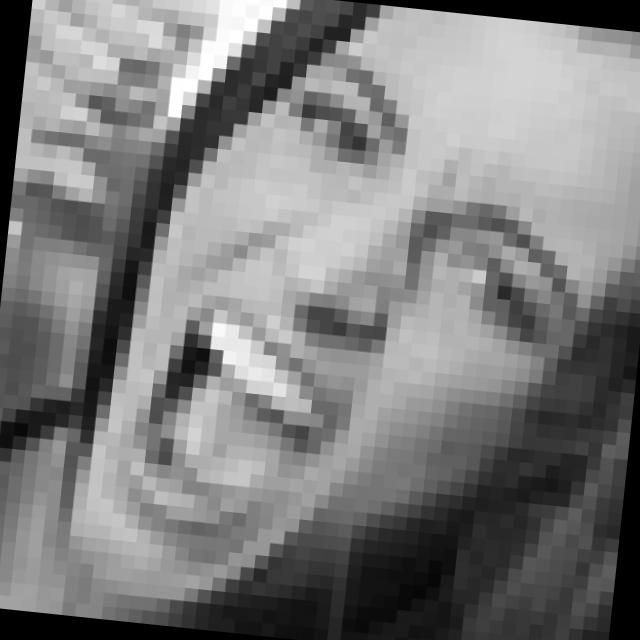angry: (107, 34, 604, 576)
